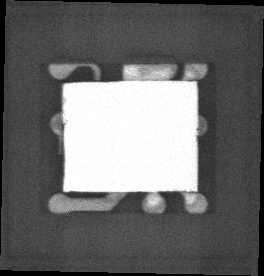DIE_BROKEN: (61, 120, 66, 191)
